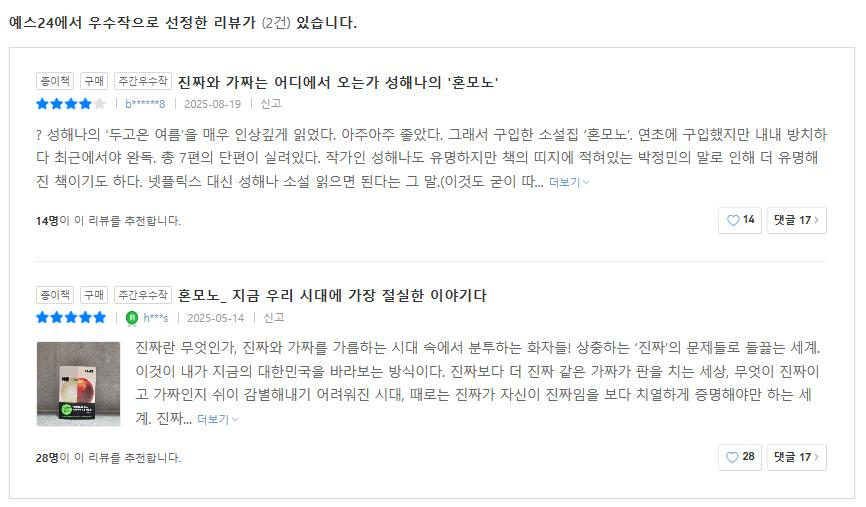button: (766, 206, 827, 234), (768, 443, 827, 470), (718, 206, 762, 234), (718, 444, 762, 470), (549, 173, 592, 190), (196, 410, 238, 425)
